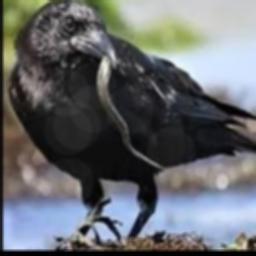Crow: (7, 0, 256, 240)
